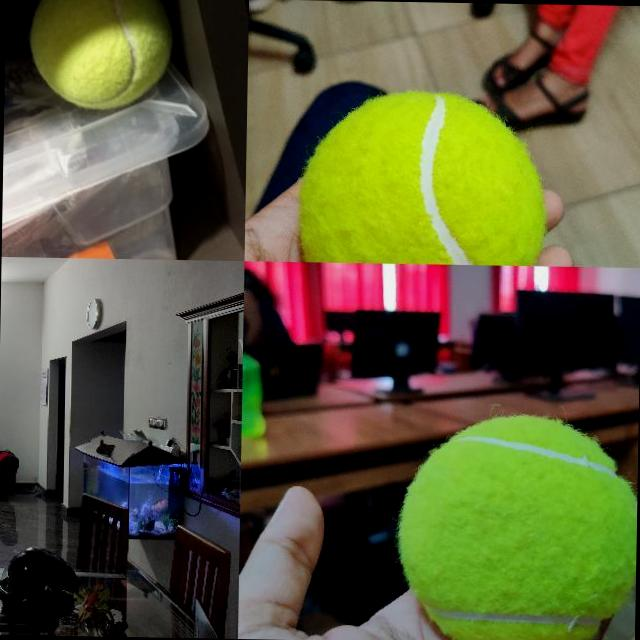Tennis Ball: (395, 413, 637, 640), (300, 90, 546, 265), (26, 0, 172, 110)
